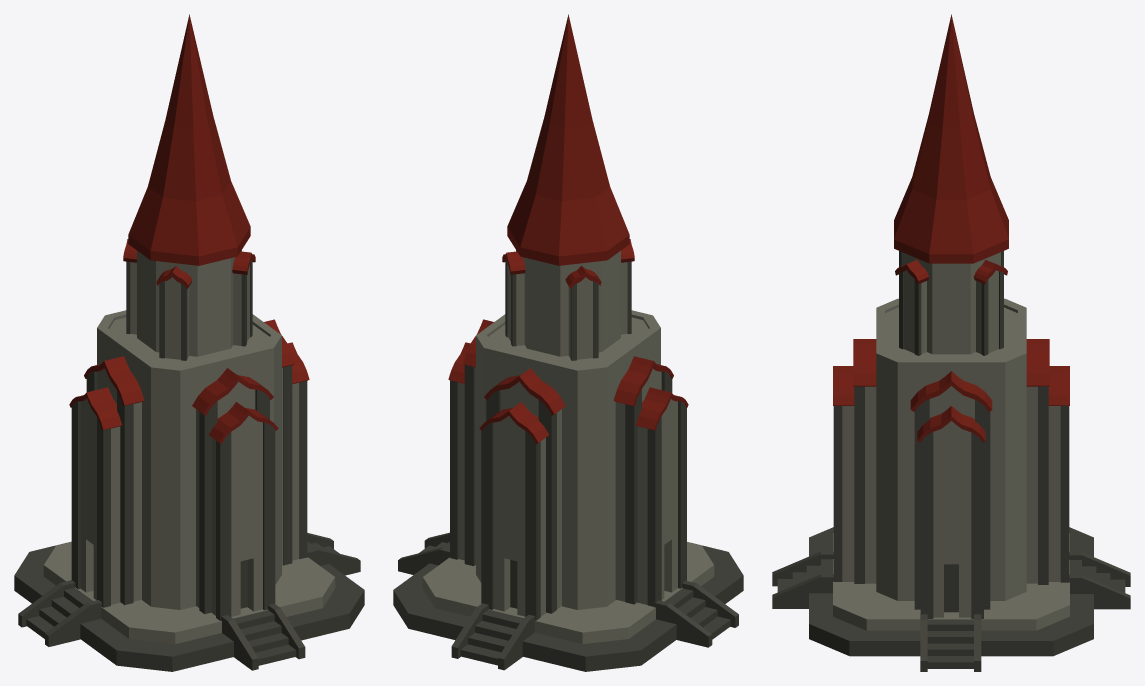
Rendered from Temple_SecondAge_Level2.obj.
3 views of the same model, side by side, from view 1: azimuth 30°, elevation 25°; view 2: azimuth 150°, elevation 25°; view 3: azimuth 270°, elevation 25° (orthographic).
Visible parts, largest first — view 1: Temple_SecondAge_Level2_Cube.095; view 2: Temple_SecondAge_Level2_Cube.095; view 3: Temple_SecondAge_Level2_Cube.095.
Part boxes in pixels (box(x1,y1,x2,y2)): Temple_SecondAge_Level2_Cube.095: box(14, 14, 364, 671); Temple_SecondAge_Level2_Cube.095: box(393, 14, 743, 671); Temple_SecondAge_Level2_Cube.095: box(772, 14, 1130, 671).
Size of the model in its own units: 2.19 by 3.93 by 2.19.
